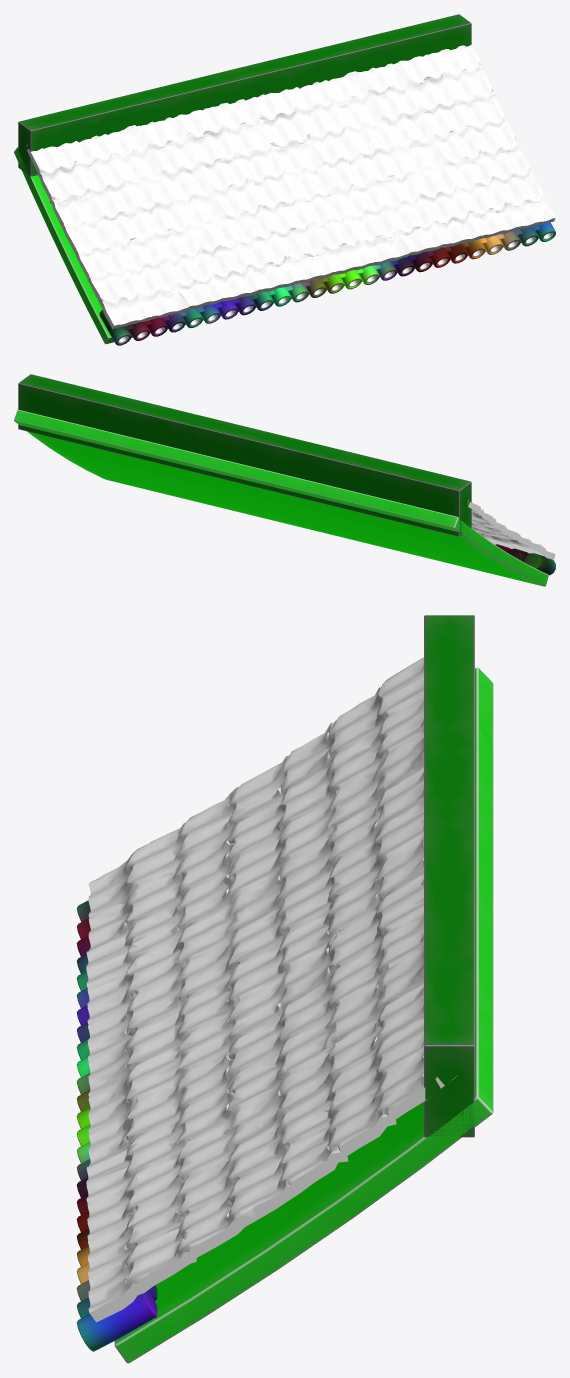
The model's file is roof_side_400x100_01_middle.fbx.
3 renders of one model, top to bottom at view 1: azimuth 30°, elevation 25°; view 2: azimuth 150°, elevation 25°; view 3: azimuth 270°, elevation 25°, orthographic. The views are drawn at different scales.
Parts seen in each view (by area): view 1: roof_side_400x100_01_middle; view 2: roof_side_400x100_01_middle; view 3: roof_side_400x100_01_middle.
Boxes of the visible parts, x1,y1,x2,y2 form: roof_side_400x100_01_middle: (14,14,555,345); roof_side_400x100_01_middle: (14,374,555,586); roof_side_400x100_01_middle: (76,615,493,1363).
Size of the model in its own units: 4 by 1.38 by 1.63.
